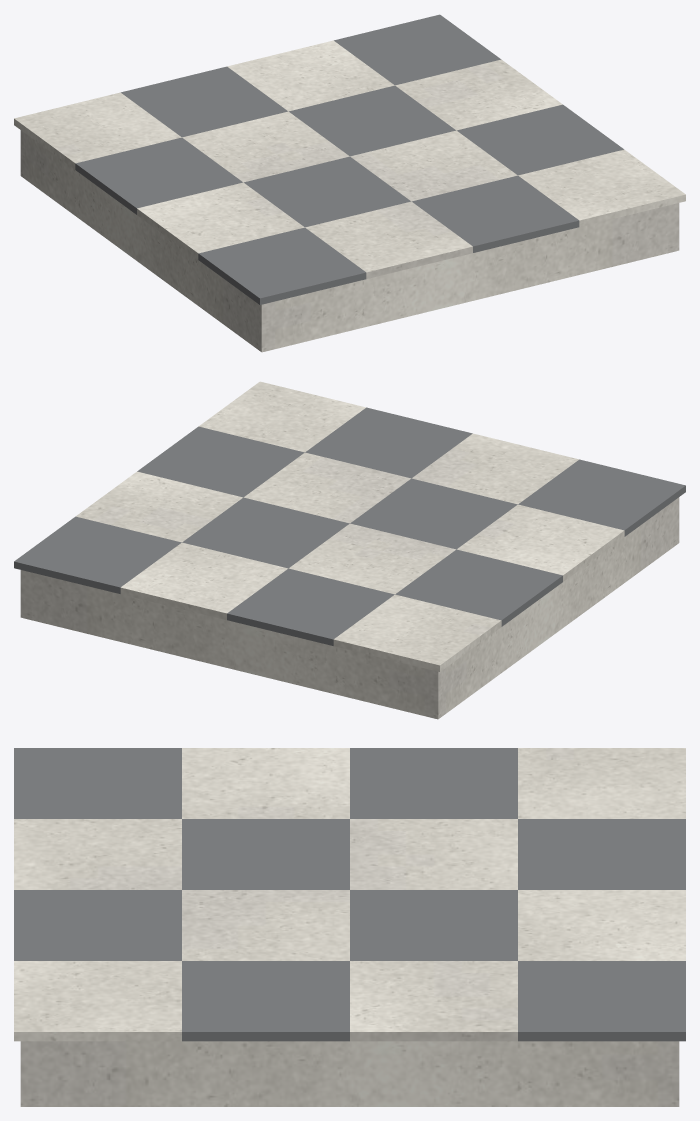
Rendered from floor_marble_u.glb.
3 views of the same model, one above another, from view 1: azimuth 30°, elevation 25°; view 2: azimuth 150°, elevation 25°; view 3: azimuth 270°, elevation 25° (orthographic). The views are drawn at different scales.
Visible parts, largest first — view 1: floor_marble_u_slate, floor_marble_u_marble, floor_marble_u_plaster; view 2: floor_marble_u_marble, floor_marble_u_slate, floor_marble_u_plaster; view 3: floor_marble_u_marble, floor_marble_u_slate, floor_marble_u_plaster.
Boxes of the visible parts, box(x1,y1,x2,y2) form: floor_marble_u_slate: box(75, 14, 623, 304); floor_marble_u_marble: box(14, 40, 685, 278); floor_marble_u_plaster: box(20, 130, 679, 352); floor_marble_u_marble: box(76, 381, 624, 671); floor_marble_u_slate: box(14, 407, 685, 645); floor_marble_u_plaster: box(20, 497, 679, 719); floor_marble_u_marble: box(14, 748, 685, 1041); floor_marble_u_slate: box(14, 748, 685, 1041); floor_marble_u_plaster: box(20, 1041, 679, 1106).
Bounding box in the file's own units: 2 × 0.255 × 2.
3 materials, 2 textured.
